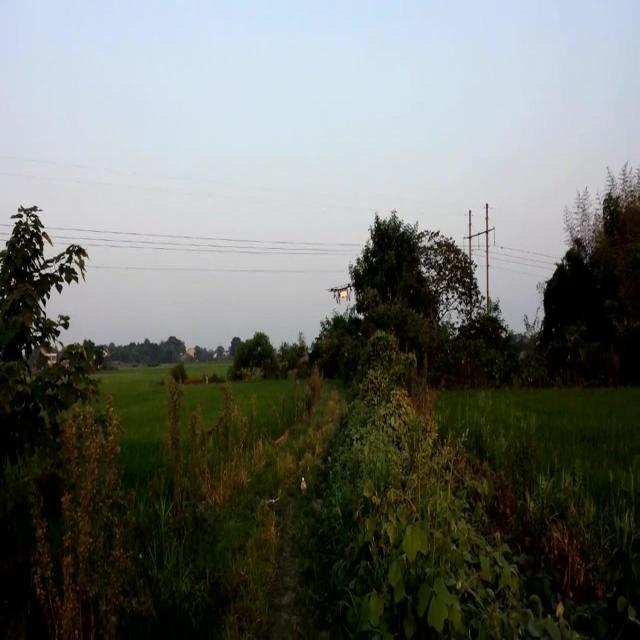drone: (326, 281, 356, 307)
